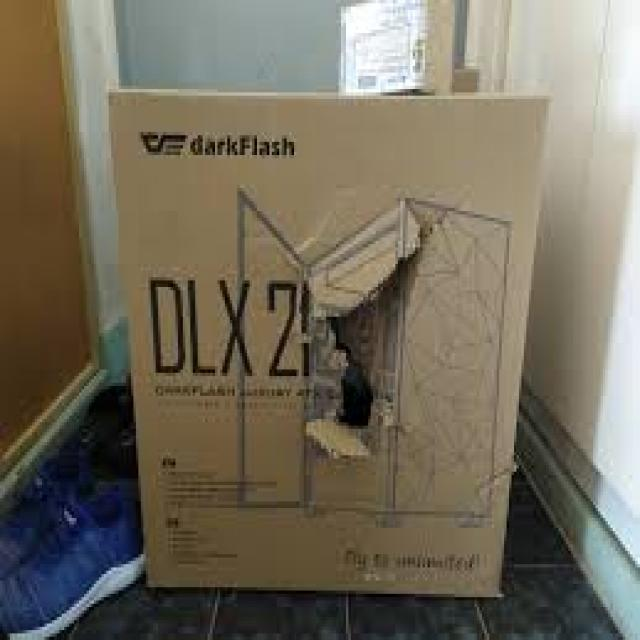damaged: (303, 262, 405, 458)
